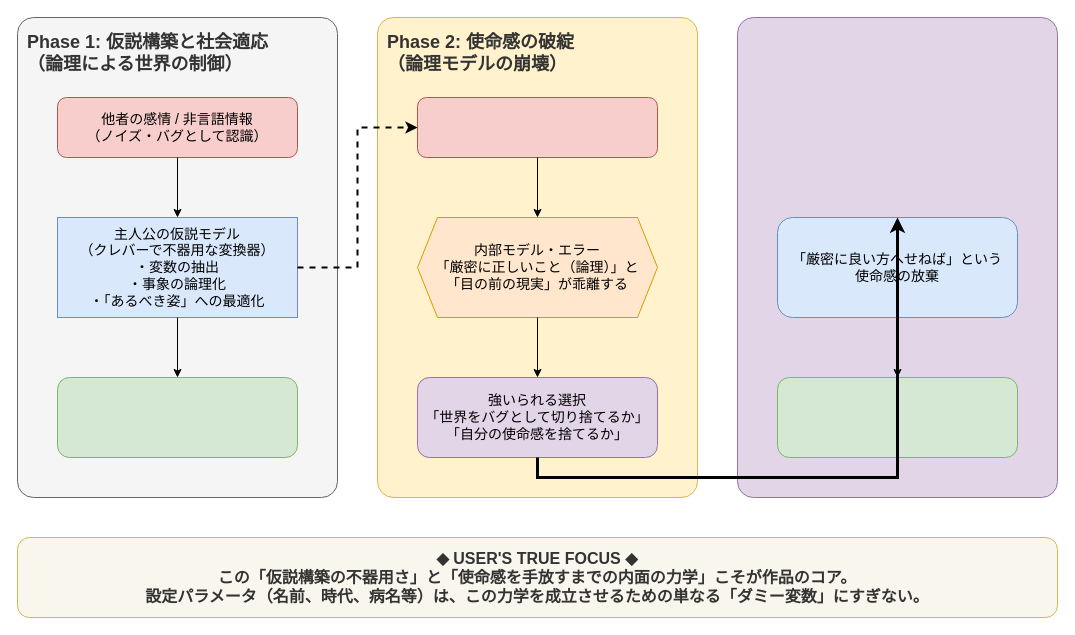
The diagram is 1075 pixels wide and 635 high, and some of its shapes have lost their labels. The shapes that lost their labels are listed below. From the top down, each one's box as (x1, y1, x2, y2) in pixels, then its label:
(416, 96, 658, 158): 制御不能な「不完全さ」の直面 （A男の崩壊 / B子の死など）
(736, 16, 1058, 498): Phase 3: 不完全性の受容 （新しい世界との接続）
(56, 376, 298, 458): 社会適応（一時的成功） ＝「世界は厳密にすれば制御可能だ」 という使命感の強化
(776, 376, 1018, 458): 不完全な人間・事象を バグではなく「そのまま」愛する （非論理的な解の受容）
